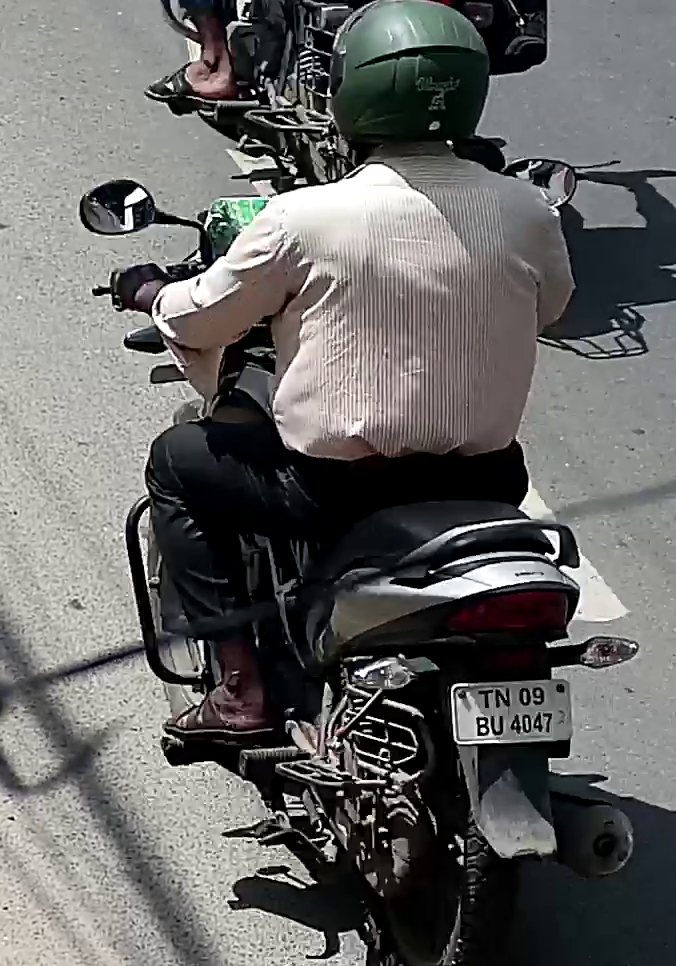0: (519, 686, 531, 706), (523, 713, 531, 733)
4: (510, 713, 522, 733), (533, 710, 543, 732)
7: (543, 711, 553, 732)
9: (533, 686, 544, 704)
B: (475, 715, 490, 735)
N: (495, 687, 511, 707)
P16: (450, 679, 575, 744)
T: (478, 688, 493, 708)
U: (491, 714, 504, 735)
